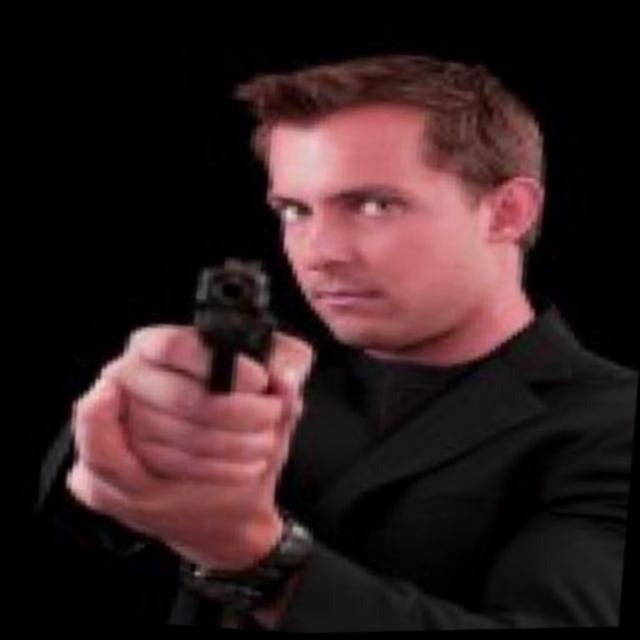weapon: (154, 245, 312, 550)
